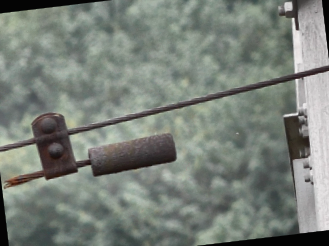damper_defect: (2, 109, 179, 192)
